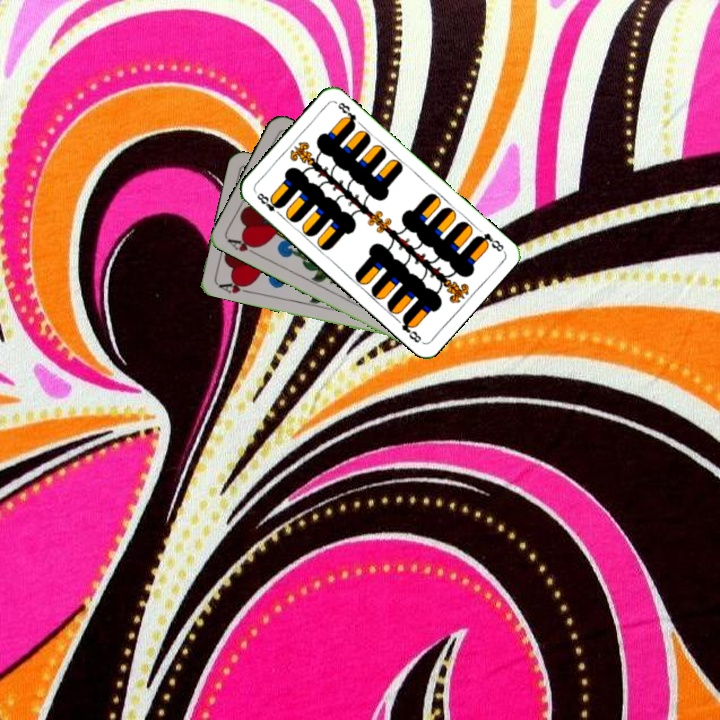E8: (472, 223, 507, 254), (251, 188, 285, 219)
HA: (224, 234, 262, 259), (215, 276, 254, 296)
